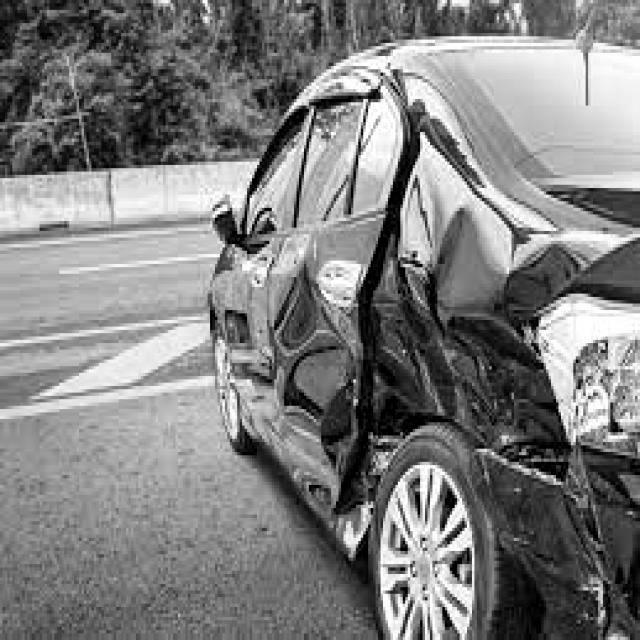Taillight-Damage: (548, 300, 640, 461)
doorouter-dent: (272, 198, 389, 499)
quaterpanel-dent: (404, 165, 559, 475)
rear-bumper-dent: (474, 454, 640, 640)
